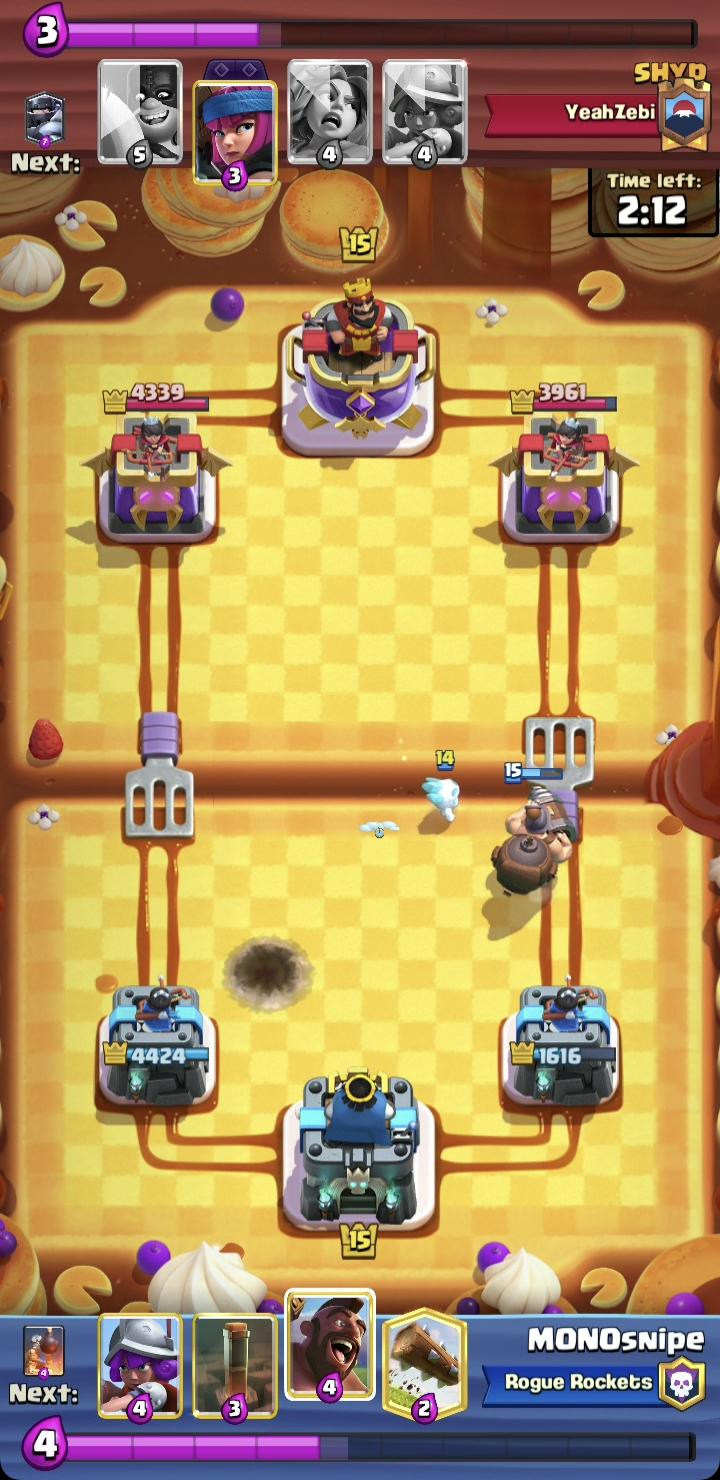ally_ice_spirit: (421, 745, 465, 828)
ally_mightyminer: (490, 762, 578, 897)
